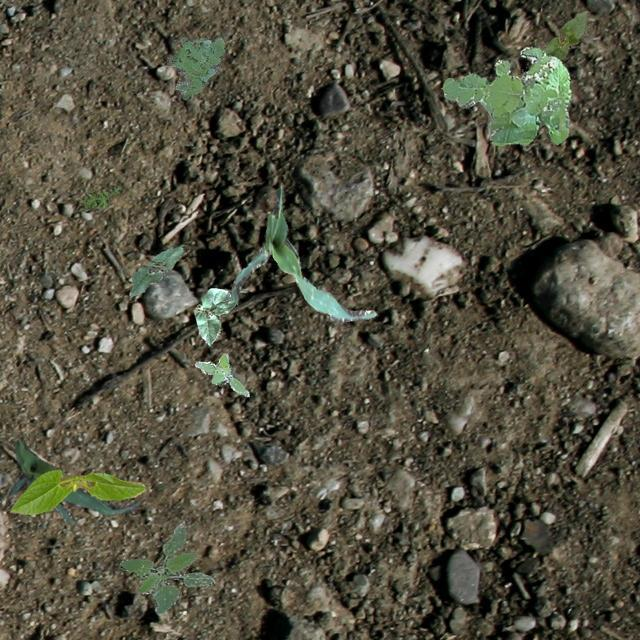crop: (230, 185, 374, 322), (7, 438, 138, 524), (10, 468, 144, 514), (128, 244, 184, 296), (192, 288, 235, 344), (542, 11, 588, 58)
weed: (440, 46, 570, 146), (119, 522, 214, 614), (168, 36, 225, 98), (194, 352, 248, 396), (78, 184, 124, 208)
